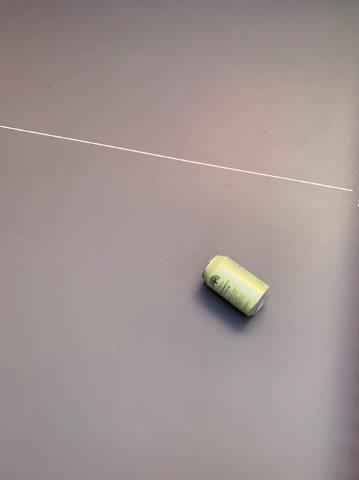kaleng: (202, 255, 271, 317)
